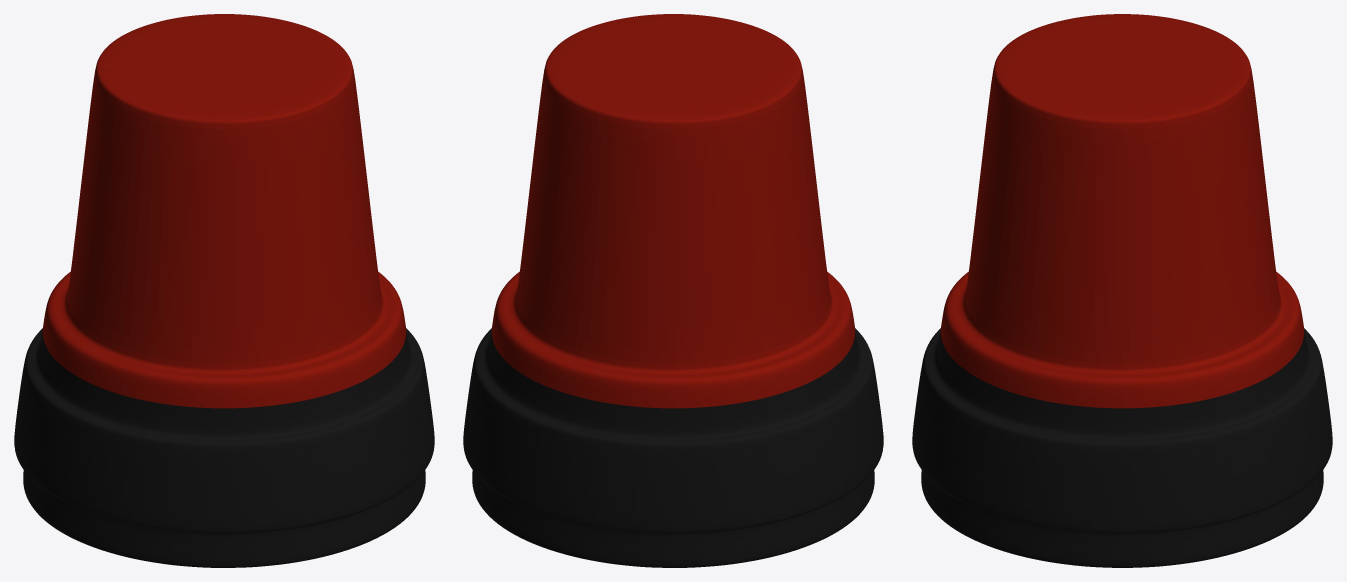
Rendered from siren.fbx.
3 views of the same model, side by side, from view 1: azimuth 30°, elevation 25°; view 2: azimuth 150°, elevation 25°; view 3: azimuth 270°, elevation 25° (orthographic).
Visible parts, largest first — view 1: siren; view 2: siren; view 3: siren.
Part boxes in pixels (bbox=[...]): siren: bbox=[14, 14, 434, 567]; siren: bbox=[463, 14, 883, 567]; siren: bbox=[912, 14, 1332, 567].
Bounding box in the file's own units: 266 × 293 × 266.
